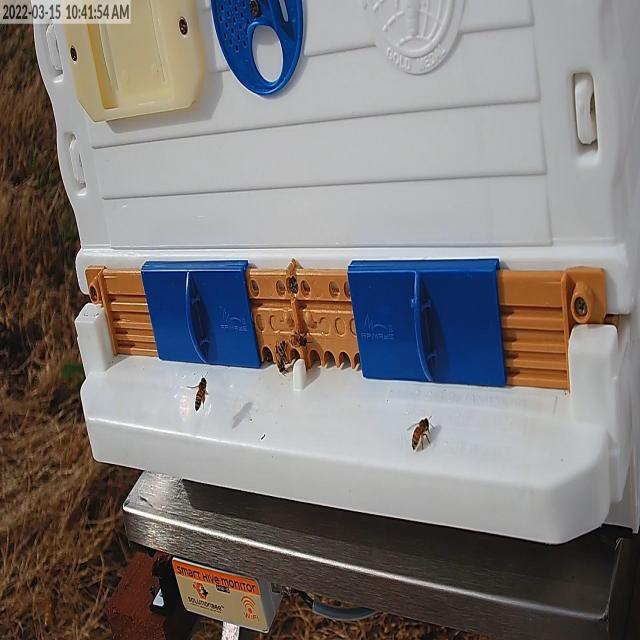honeybee: (189, 376, 211, 414), (409, 418, 430, 450), (274, 338, 288, 378), (292, 333, 310, 351)
